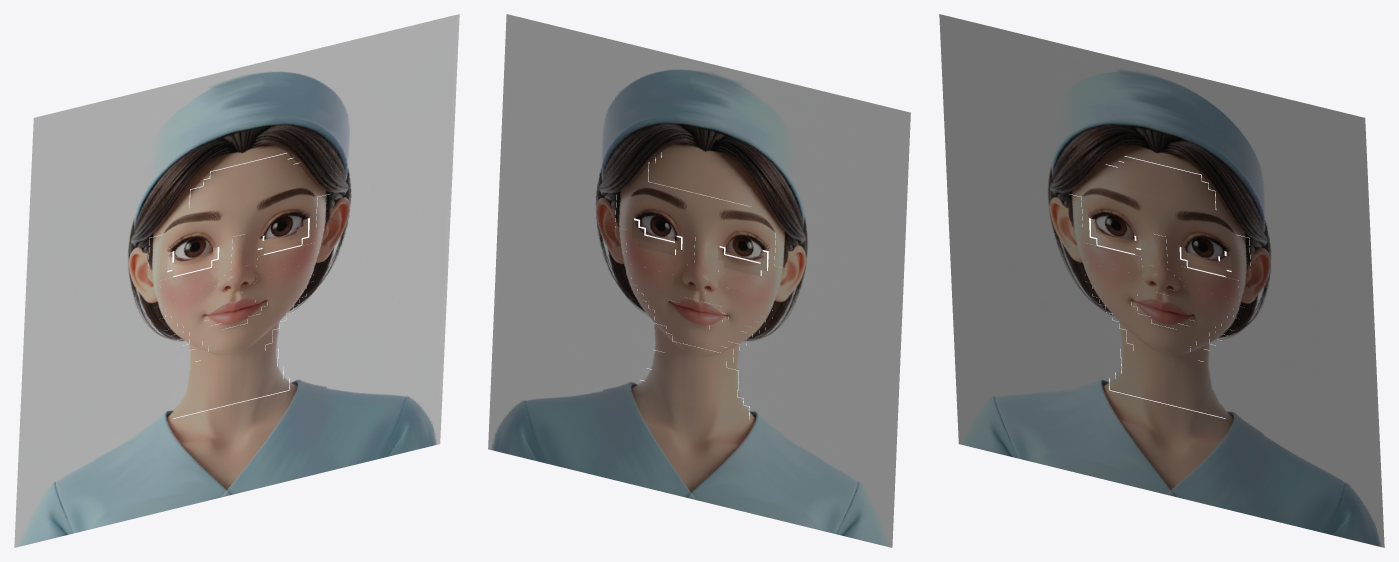
The picture shows the model from 3 angles, left to right: view 1: azimuth 30°, elevation 25°; view 2: azimuth 150°, elevation 25°; view 3: azimuth 330°, elevation 25°; orthographic projection. The views are drawn at different scales.
Visible parts, largest first — view 1: Plane, neck, forehead, cheeks, undereyes, doublechin, lips, nose, jawline, temple; view 2: Plane, neck, forehead, cheeks, undereyes, doublechin, lips, nose, jawline, temple; view 3: Plane, neck, forehead, cheeks, undereyes, doublechin, lips, nose, jawline, temple.
Part boxes in pixels (x1,y1,x2,y2): Plane: [14, 14, 459, 547]; neck: [173, 348, 289, 418]; forehead: [189, 153, 300, 208]; cheeks: [159, 243, 315, 299]; undereyes: [167, 218, 307, 275]; doublechin: [189, 322, 279, 366]; lips: [203, 296, 267, 329]; nose: [217, 234, 256, 295]; jawline: [153, 260, 320, 345]; temple: [148, 194, 330, 270]; Plane: [488, 14, 910, 547]; neck: [638, 350, 749, 419]; forehead: [648, 152, 752, 206]; cheeks: [626, 243, 773, 298]; undereyes: [632, 219, 766, 276]; doublechin: [654, 323, 739, 367]; lips: [667, 296, 728, 329]; nose: [681, 233, 717, 295]; jawline: [619, 261, 778, 345]; temple: [615, 194, 787, 268]; Plane: [939, 14, 1384, 547]; neck: [1109, 348, 1225, 418]; forehead: [1105, 156, 1215, 210]; cheeks: [1083, 243, 1239, 299]; undereyes: [1091, 218, 1231, 275]; doublechin: [1119, 322, 1209, 366]; lips: [1131, 294, 1195, 329]; nose: [1142, 234, 1181, 295]; jawline: [1078, 260, 1245, 345]; temple: [1068, 194, 1250, 270].
Bounding box in the file's own units: 2 × 1.99 × 0.1581.
Materials: 1 (1 with a texture image).
